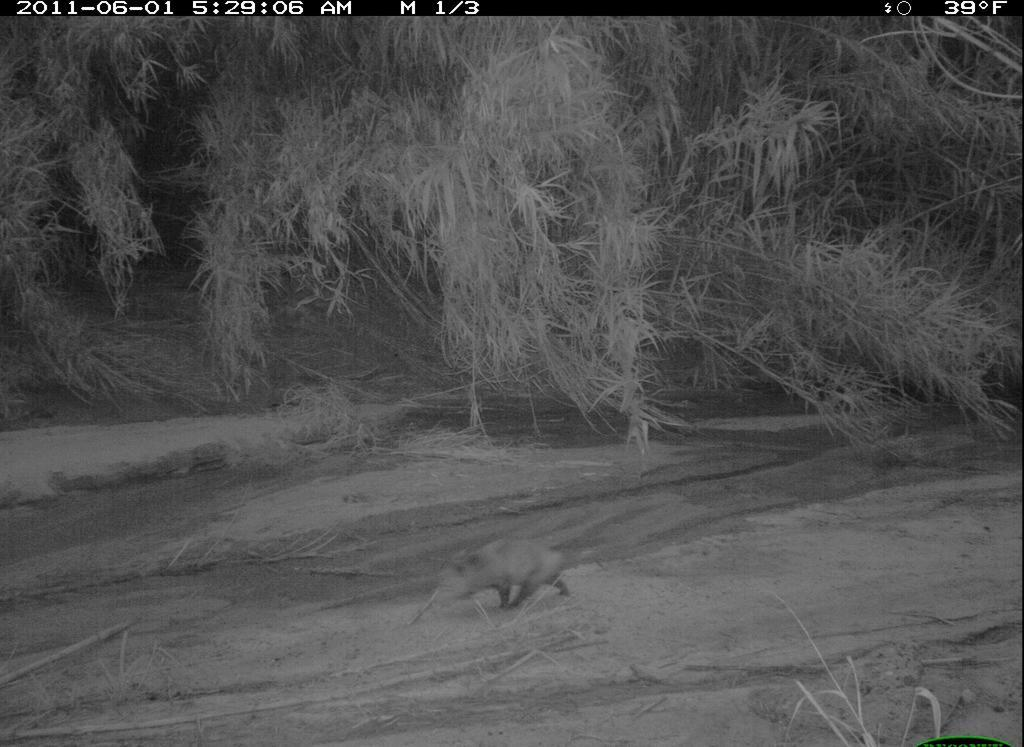opossum: (418, 527, 569, 623)
